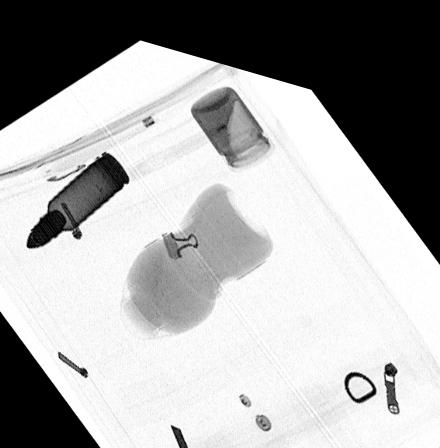Bullet: (24, 142, 129, 246)
